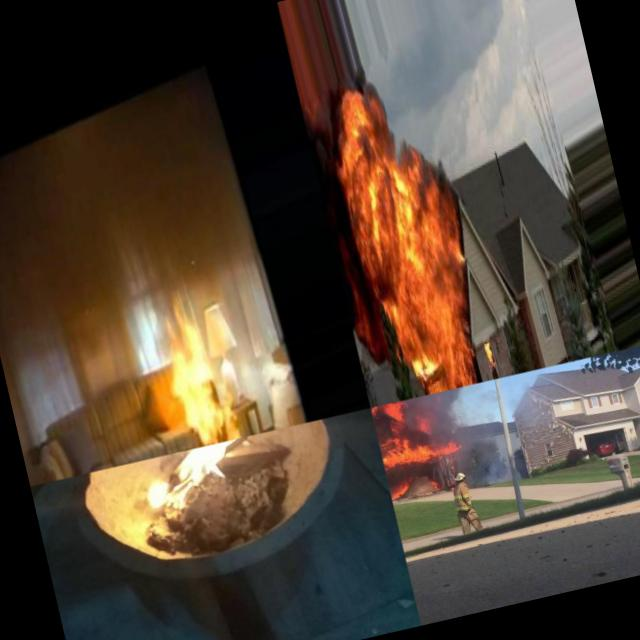fire: (338, 132, 475, 400), (146, 276, 234, 450), (142, 438, 250, 516), (428, 173, 479, 323), (329, 83, 394, 150), (371, 401, 416, 472), (412, 426, 463, 466)
smoke: (301, 101, 380, 341), (404, 386, 474, 436), (460, 451, 520, 492)
